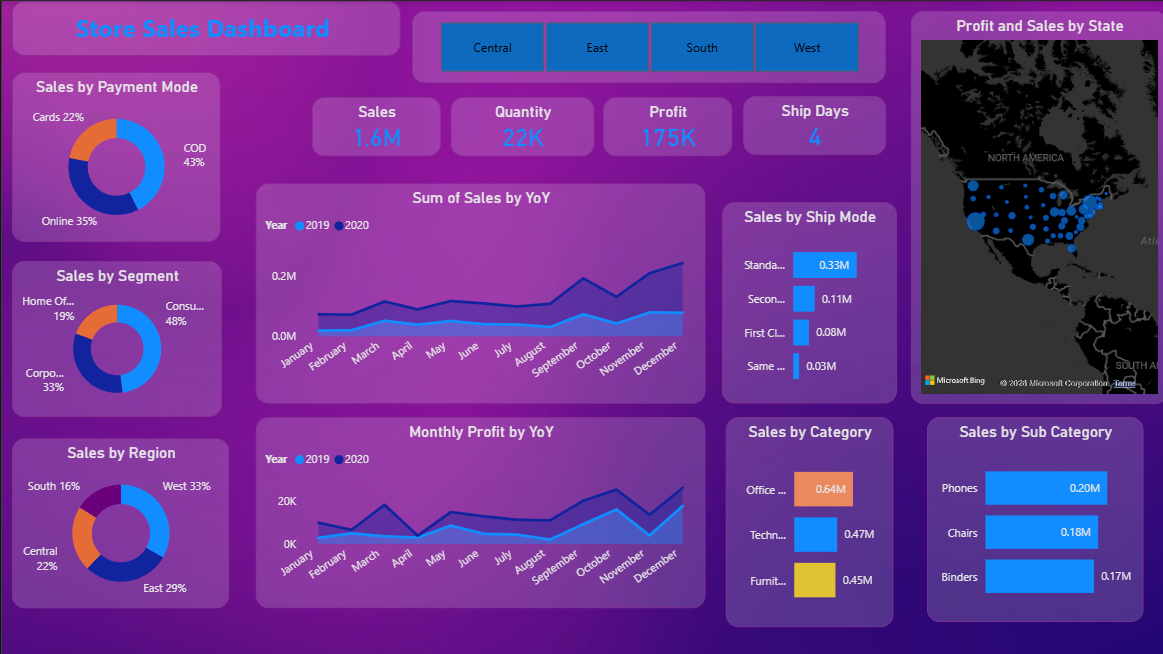

What the dashboard file says about the page in this screenshot:
{"tool":"powerbi","page":{"name":"Page 1","canvas":[1280,720],"ordinal":0},"visuals":[{"type":"clusteredBarChart","title":"Sales by Category","fields":{"Category":["SuperStore_Sales_Dataset.Category"],"Y":["Sum(SuperStore_Sales_Dataset.Sales)"]},"box":[794.5,456.9,183.9,230.5],"z":0},{"type":"clusteredBarChart","title":"Sales by Sub Category","fields":{"Category":["SuperStore_Sales_Dataset.Sub-Category"],"Y":["Sum(SuperStore_Sales_Dataset.Sales)"]},"box":[1015.4,456.9,237.4,225],"z":1000},{"type":"clusteredBarChart","title":"Sales by Ship Mode","fields":{"Category":["SuperStore_Sales_Dataset.Ship Mode"],"Y":["Sum(SuperStore_Sales_Dataset.Sales)"]},"box":[790.4,220.9,192.1,220.9],"z":2000},{"type":"stackedAreaChart","title":"Sum of Sales by YoY","fields":{"Y":["Sum(SuperStore_Sales_Dataset.Sales)"],"Category":["SuperStore_Sales_Dataset.Order Date.Variation.Date Hierarchy.Month","SuperStore_Sales_Dataset.Order Date.Variation.Date Hierarchy.Day"],"Series":["SuperStore_Sales_Dataset.Order Date.Variation.Date Hierarchy.Year"]},"box":[278.6,200.3,494,241.5],"z":3000},{"type":"stackedAreaChart","title":"Monthly Profit by YoY","fields":{"Category":["SuperStore_Sales_Dataset.Order Date.Variation.Date Hierarchy.Month","SuperStore_Sales_Dataset.Order Date.Variation.Date Hierarchy.Day"],"Series":["SuperStore_Sales_Dataset.Order Date.Variation.Date Hierarchy.Year"],"Y":["Sum(SuperStore_Sales_Dataset.Profit)"]},"box":[278.6,456.9,494,209.9],"z":4000},{"type":"map","title":"Profit and Sales by State","fields":{"Category":["SuperStore_Sales_Dataset.State"],"Size":["Sum(SuperStore_Sales_Dataset.Sales)"]},"box":[997.6,11,282.7,430.9],"z":5000},{"type":"donutChart","title":"Sales by Segment","fields":{"Category":["SuperStore_Sales_Dataset.Segment"],"Y":["Sum(SuperStore_Sales_Dataset.Sales)"]},"box":[11,285.4,230.5,171.5],"z":6000},{"type":"donutChart","title":" Sales by Payment Mode","fields":{"Category":["SuperStore_Sales_Dataset.Payment Mode"],"Y":["Sum(SuperStore_Sales_Dataset.Sales)"]},"box":[11,78.2,229.2,186.6],"z":7000},{"type":"slicer","fields":{"Values":["SuperStore_Sales_Dataset.Region"]},"box":[450.1,11,520.1,79.6],"z":8000},{"type":"textbox","box":[11,0,426.8,60.4],"z":9000},{"type":"card","title":"Sales","fields":{"Values":["Sum(SuperStore_Sales_Dataset.Sales)"]},"box":[340.3,105.7,141.3,64.5],"z":10000},{"type":"card","title":"Quantity","fields":{"Values":["Sum(SuperStore_Sales_Dataset.Quantity)"]},"box":[492.6,105.7,157.8,64.5],"z":11000},{"type":"card","title":"Profit","fields":{"Values":["Sum(SuperStore_Sales_Dataset.Profit)"]},"box":[660,105.7,141.3,64.5],"z":12000},{"type":"card","title":"Ship Days ","fields":{"Values":["Avg(SuperStore_Sales_Dataset.AvgDelivery)"]},"box":[813.7,104.3,156.4,64.5],"z":13000},{"type":"donutChart","title":"Sales by Region","fields":{"Category":["SuperStore_Sales_Dataset.Region"],"Y":["Sum(SuperStore_Sales_Dataset.Sales)"]},"box":[11,480.3,238.8,186.6],"z":14000}]}

Visuals, with their boxes in screenshot pixels (x1, y1, x2, y2), scaled from the page's 1280x720 canvas onto the 1163x654 screenshot:
"Sales by Category" clusteredBarChart: x1=722 y1=415 x2=889 y2=624
"Sales by Sub Category" clusteredBarChart: x1=923 y1=415 x2=1138 y2=619
"Sales by Ship Mode" clusteredBarChart: x1=718 y1=201 x2=893 y2=401
"Sum of Sales by YoY" stackedAreaChart: x1=253 y1=182 x2=702 y2=401
"Monthly Profit by YoY" stackedAreaChart: x1=253 y1=415 x2=702 y2=606
"Profit and Sales by State" map: x1=906 y1=10 x2=1162 y2=401
"Sales by Segment" donutChart: x1=10 y1=259 x2=219 y2=415
" Sales by Payment Mode" donutChart: x1=10 y1=71 x2=218 y2=241
slicer - SuperStore_Sales_Dataset.Region: x1=409 y1=10 x2=882 y2=82
textbox: x1=10 y1=0 x2=398 y2=55
"Sales" card: x1=309 y1=96 x2=438 y2=155
"Quantity" card: x1=448 y1=96 x2=591 y2=155
"Profit" card: x1=600 y1=96 x2=728 y2=155
"Ship Days " card: x1=739 y1=95 x2=881 y2=153
"Sales by Region" donutChart: x1=10 y1=436 x2=227 y2=606
